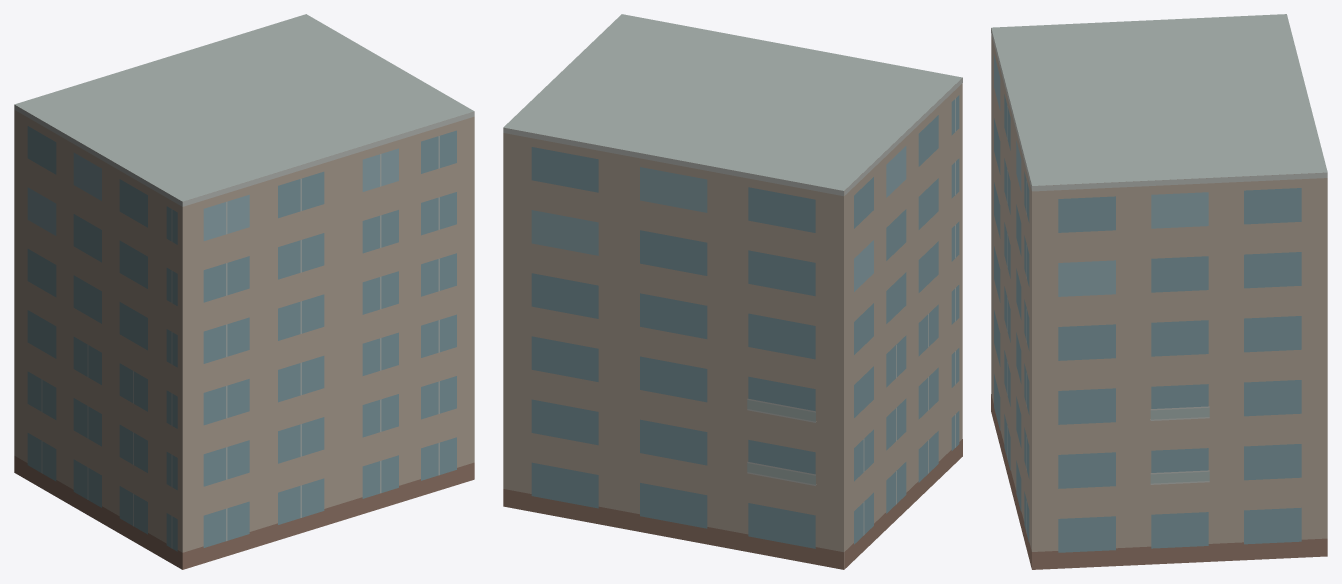
The model's file is survey-upis-32636733.glb.
The picture shows the model from 3 angles, left to right: view 1: azimuth 30°, elevation 25°; view 2: azimuth 150°, elevation 25°; view 3: azimuth 270°, elevation 25°; orthographic projection. The views are drawn at different scales.
Visible parts, largest first — view 1: survey-upis-32636733.tmp; view 2: survey-upis-32636733.tmp; view 3: survey-upis-32636733.tmp.
Boxes of the visible parts, x1,y1,x2,y2 form: survey-upis-32636733.tmp: (14, 14, 474, 569); survey-upis-32636733.tmp: (503, 14, 962, 569); survey-upis-32636733.tmp: (991, 14, 1327, 569).
Size of the model in its own units: 16.64 by 17.3 by 13.76.
